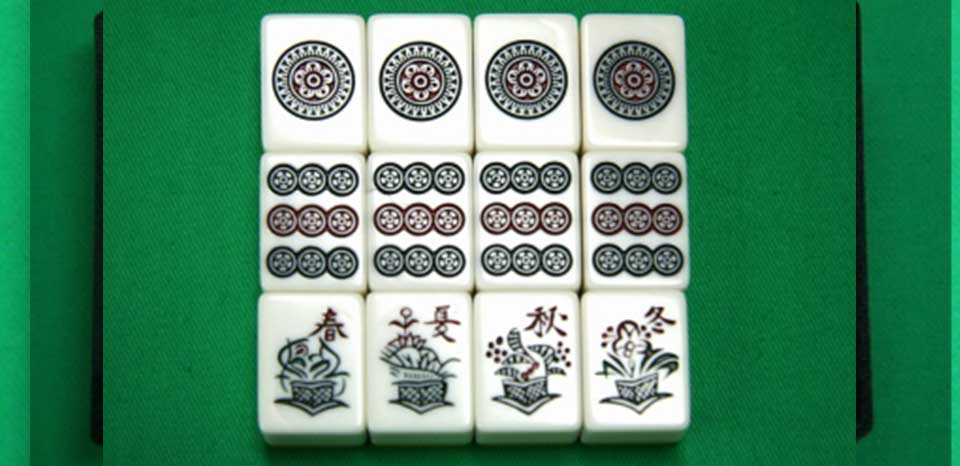pin_1: (263, 15, 366, 149)
pin_9: (259, 151, 363, 292)
